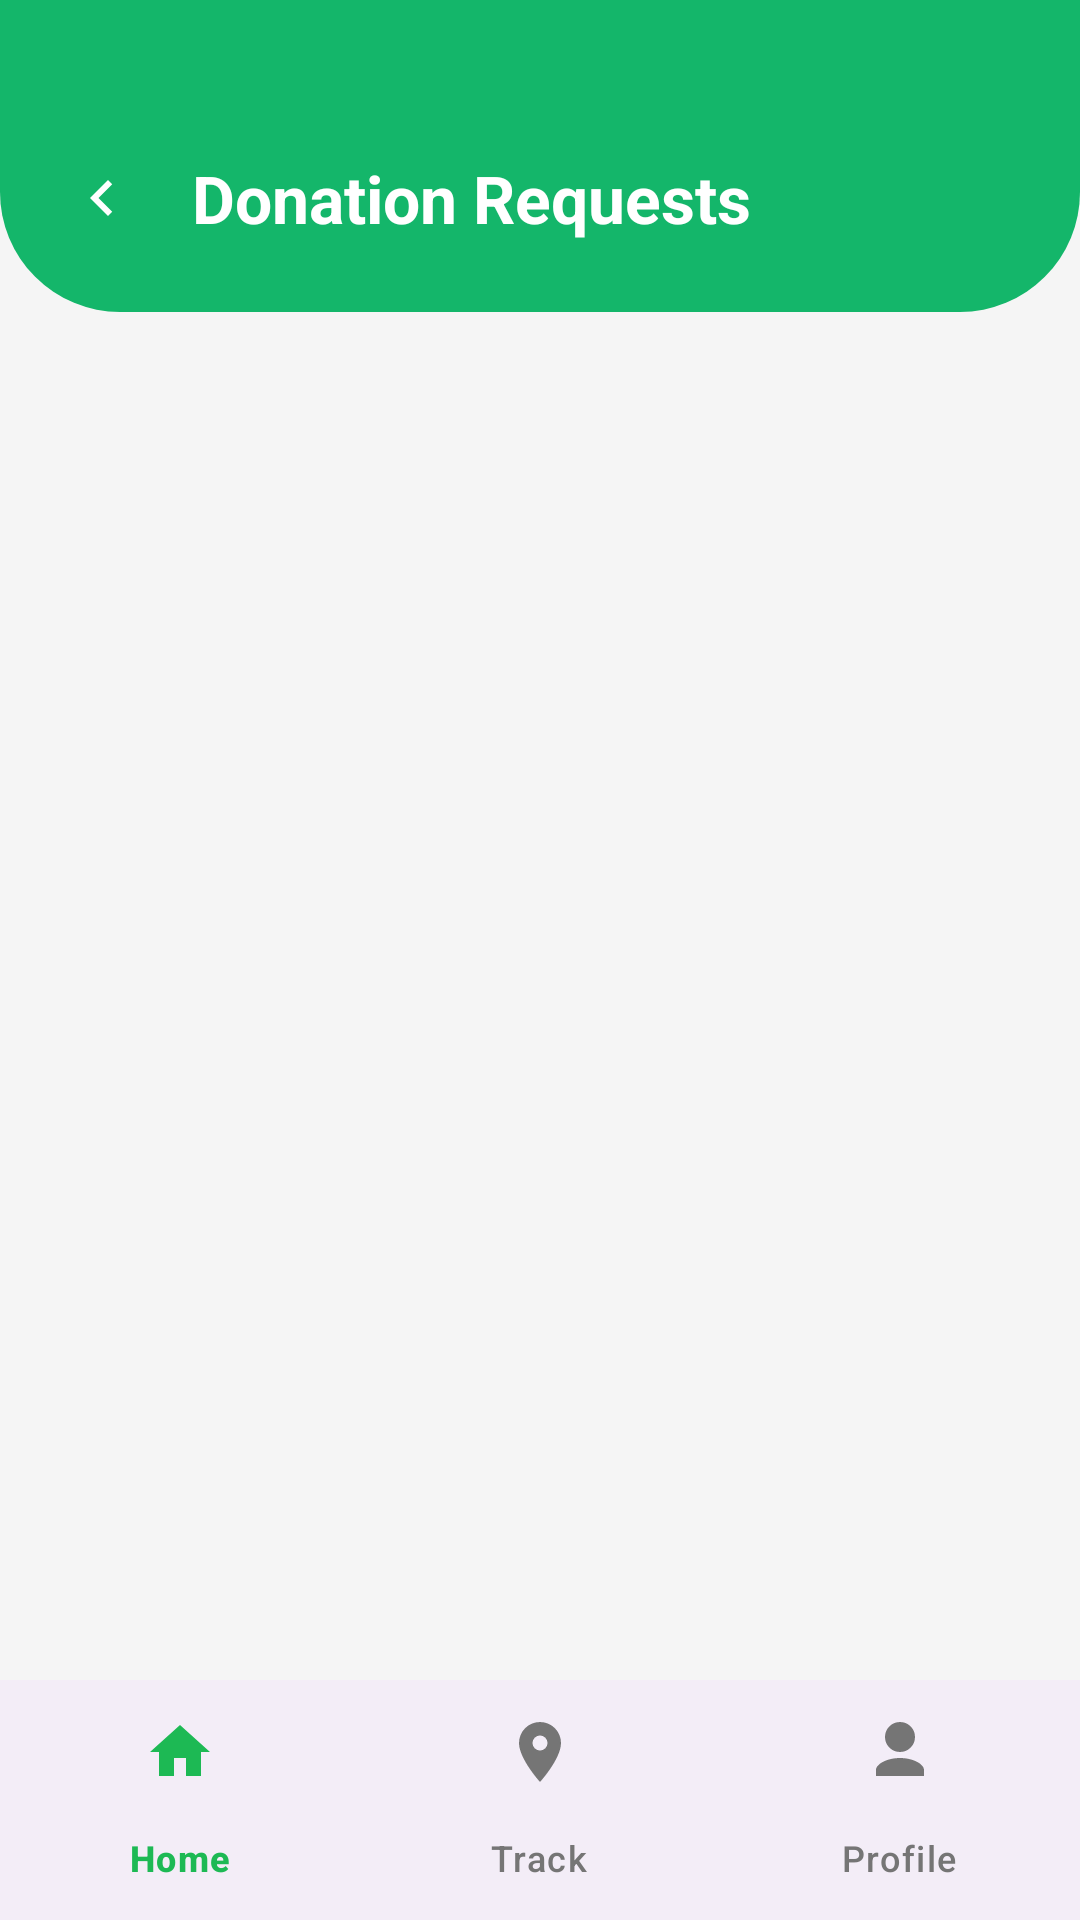

Named icons in this screenshot (1080px×1920px) and their centers, point (x, y):
back: point (101, 198)
